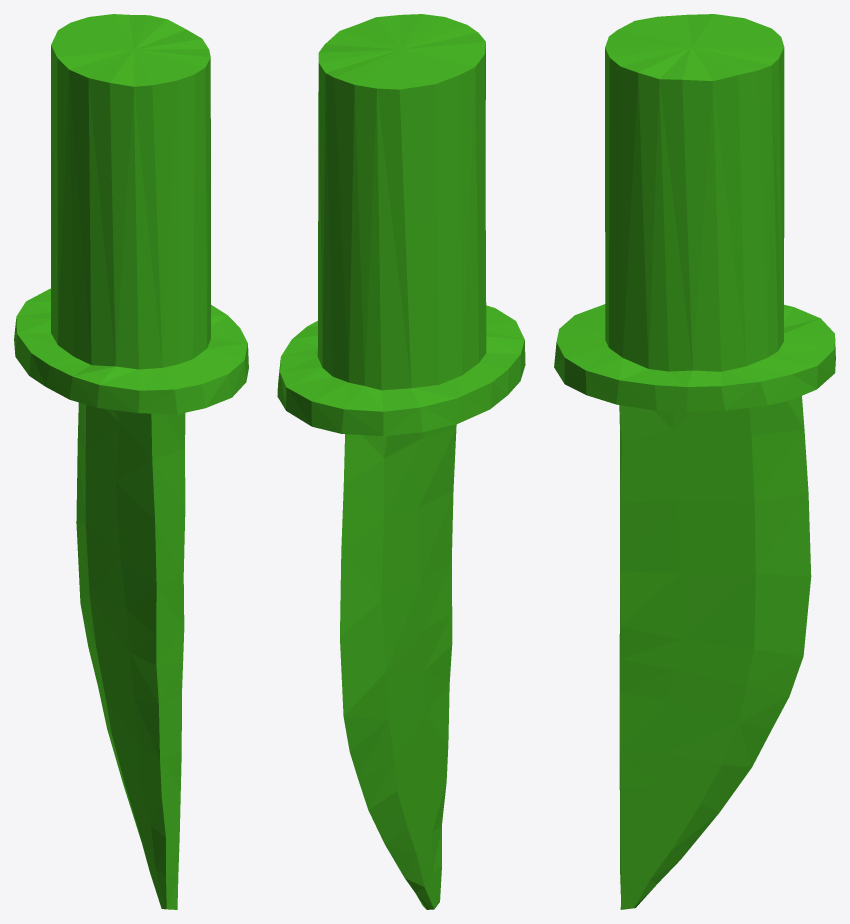
The model's file is Kid@knifeGauche.FBX.
3 views of the same model, side by side, from view 1: azimuth 30°, elevation 25°; view 2: azimuth 150°, elevation 25°; view 3: azimuth 270°, elevation 25° (orthographic). The views are drawn at different scales.
Parts seen in each view (by area): view 1: Knife_D; view 2: Knife_D; view 3: Knife_D.
Boxes of the visible parts, <box> form: Knife_D: <box>14,14,248,909</box>; Knife_D: <box>277,14,525,909</box>; Knife_D: <box>554,14,835,909</box>.
Size of the model in its own units: 3.15 by 13.48 by 4.01.
